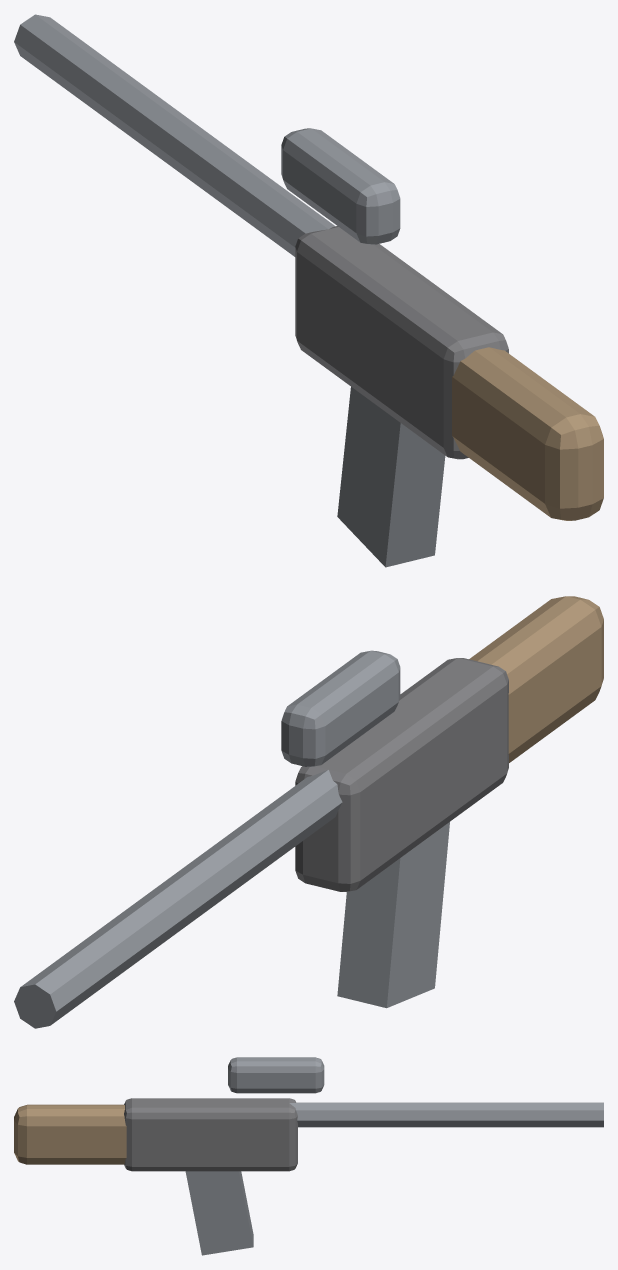
The model's file is wpn_rifle.glb.
3 views of the same model, one above another, from view 1: azimuth 30°, elevation 25°; view 2: azimuth 150°, elevation 25°; view 3: azimuth 270°, elevation 25° (orthographic). The views are drawn at different scales.
Visible parts, largest first — view 1: rifle_body, rifle_stock, rifle_barrel, rifle_mag, rifle_scope; view 2: rifle_body, rifle_barrel, rifle_mag, rifle_stock, rifle_scope; view 3: rifle_body, rifle_barrel, rifle_stock, rifle_mag, rifle_scope.
Boxes of the visible parts, left/top/right/bottom form: rifle_body: left=295, top=226, right=508, bottom=459; rifle_stock: left=452, top=347, right=603, bottom=520; rifle_barrel: left=14, top=14, right=334, bottom=256; rifle_mag: left=337, top=387, right=445, bottom=567; rifle_scope: left=281, top=128, right=400, bottom=244; rifle_body: left=295, top=658, right=508, bottom=891; rifle_barrel: left=14, top=769, right=342, bottom=1028; rifle_mag: left=337, top=822, right=449, bottom=1008; rifle_stock: left=469, top=596, right=603, bottom=762; rifle_scope: left=281, top=650, right=400, bottom=766; rifle_body: left=124, top=1098, right=297, bottom=1171; rifle_barrel: left=289, top=1102, right=603, bottom=1127; rifle_stock: left=14, top=1104, right=126, bottom=1164; rifle_mag: left=185, top=1171, right=253, bottom=1255; rifle_scope: left=228, top=1057, right=324, bottom=1093.
Size of the model in its own units: 0.09 by 0.4787 by 1.35.
